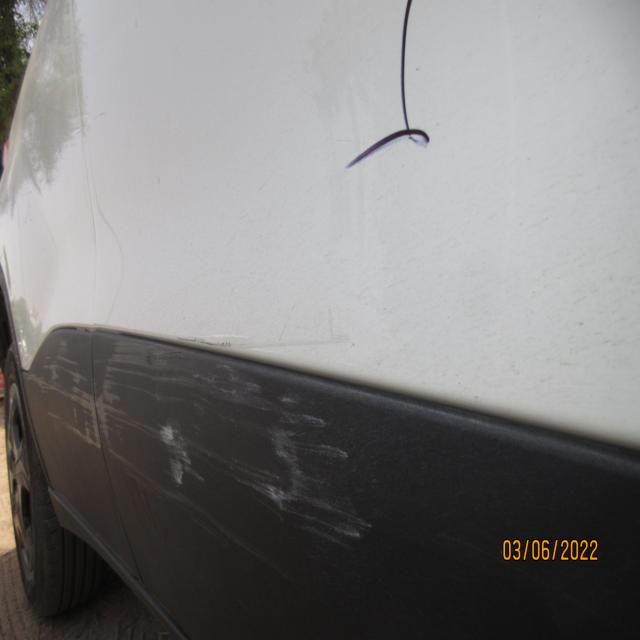damage: (91, 328, 372, 558), (23, 318, 92, 448)
